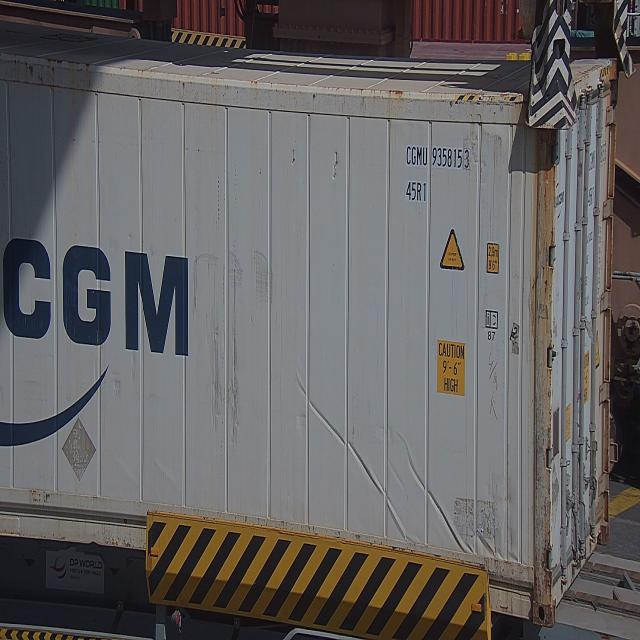dent: (292, 359, 482, 551)
